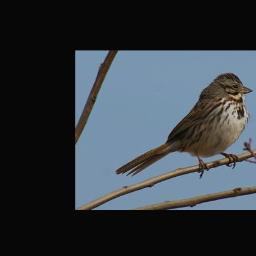Sparrow: (114, 72, 254, 178)
